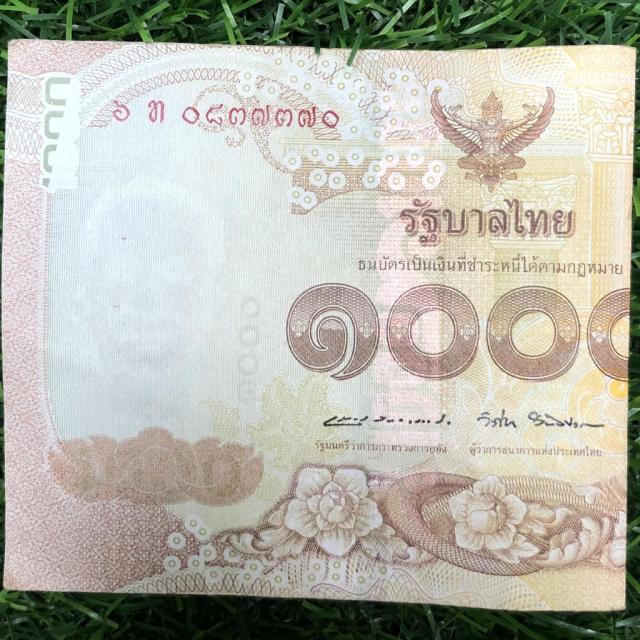THAI1000: (2, 41, 635, 610)
